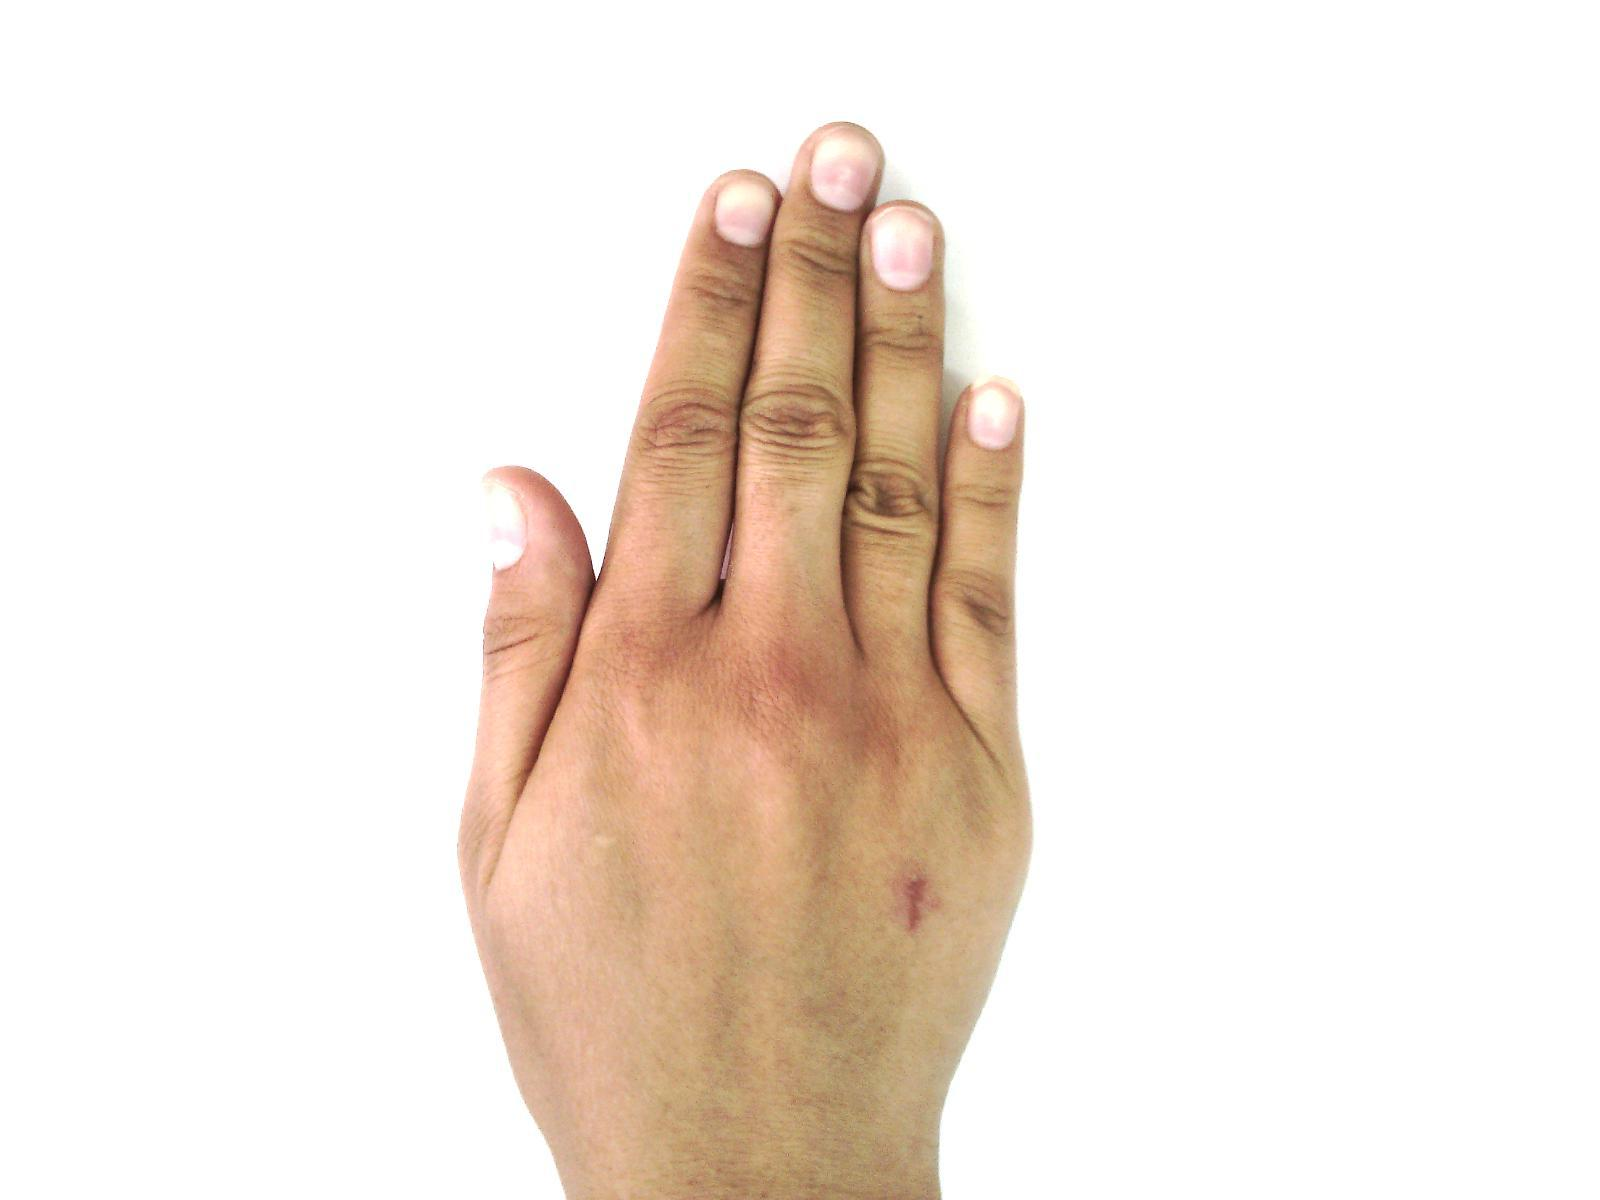hand: (456, 113, 1044, 1134)
